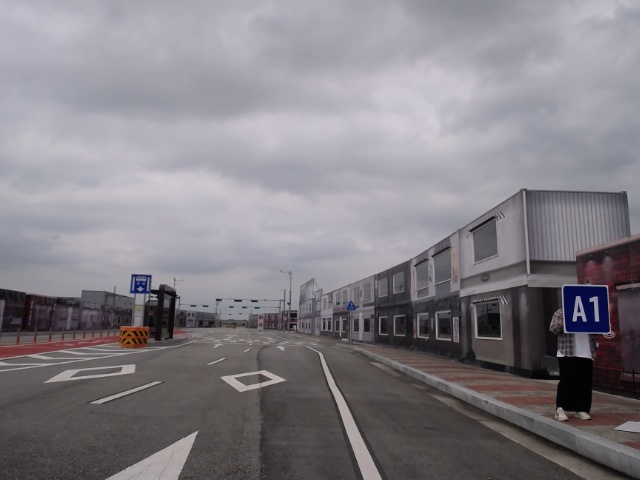delivery_a1: (562, 285, 612, 334)
